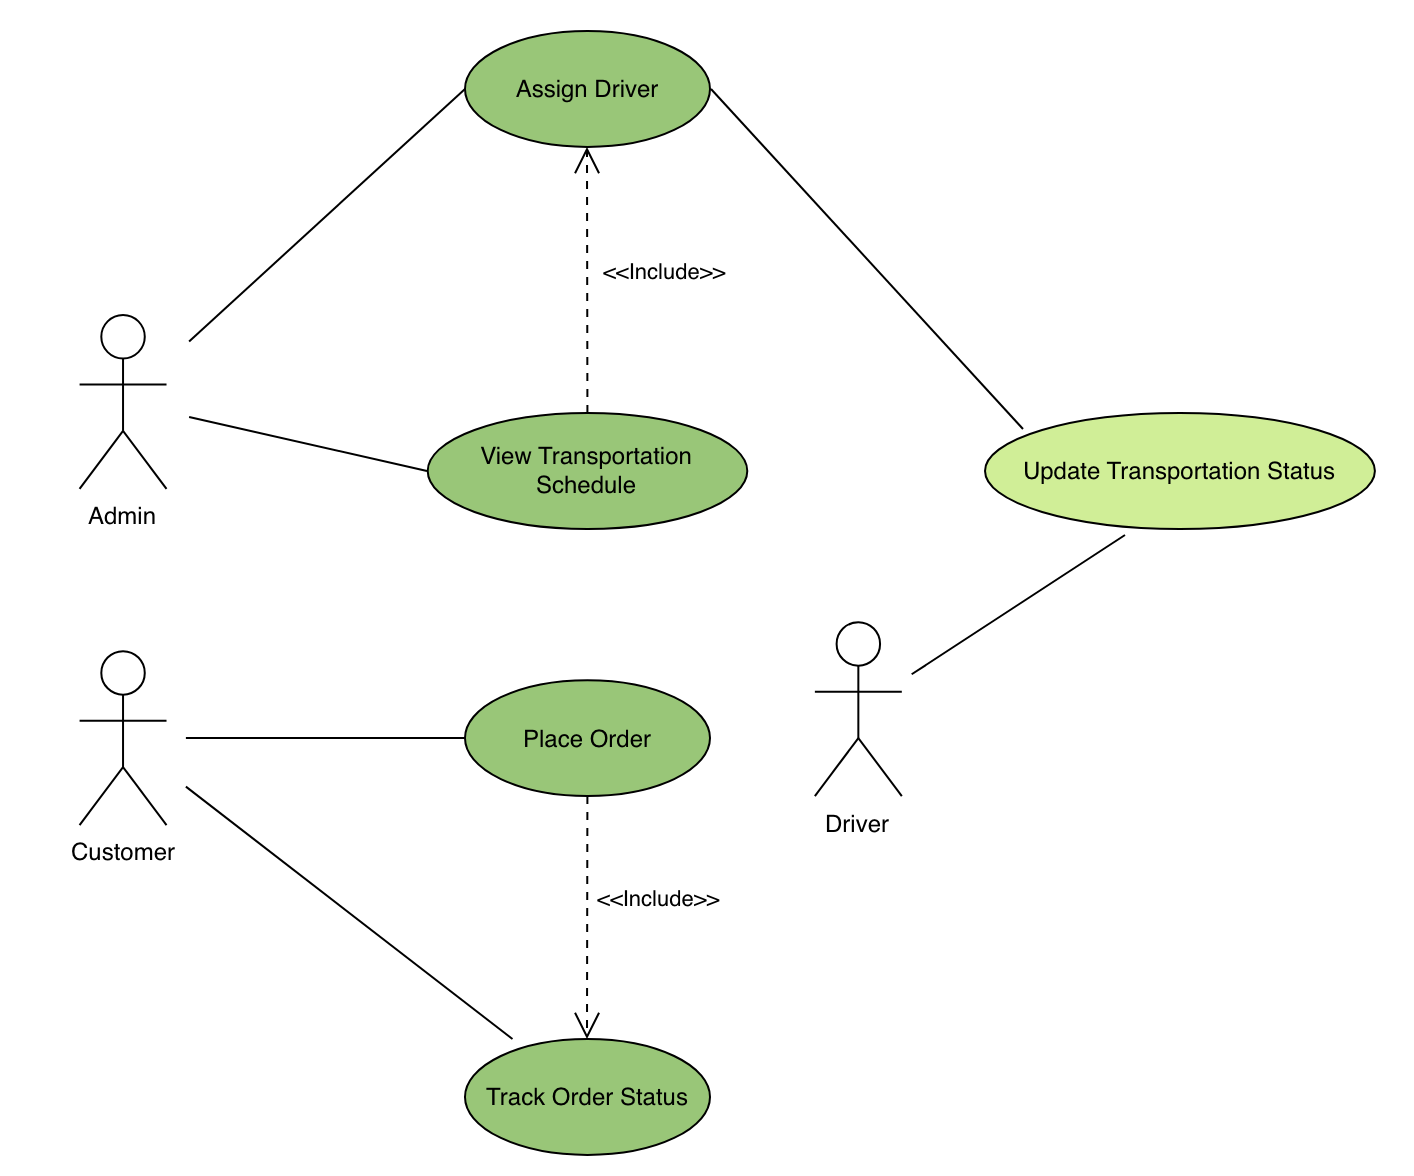actor: (74, 305, 173, 502), (808, 619, 901, 806), (76, 649, 170, 829)
association: (714, 89, 1025, 426), (183, 780, 521, 1040), (188, 87, 462, 347), (909, 532, 1127, 676), (184, 409, 424, 483), (182, 713, 464, 757), (570, 146, 607, 408), (571, 798, 604, 1036)
text: (471, 441, 711, 500), (1021, 450, 1340, 492), (480, 1073, 695, 1115), (507, 714, 671, 758), (516, 62, 660, 106), (598, 874, 728, 920), (600, 251, 730, 294), (63, 829, 179, 872), (83, 502, 159, 532), (819, 814, 894, 839)
use_case: (982, 409, 1376, 533), (424, 410, 750, 535), (462, 1034, 715, 1160), (462, 29, 714, 152), (463, 677, 714, 799)
